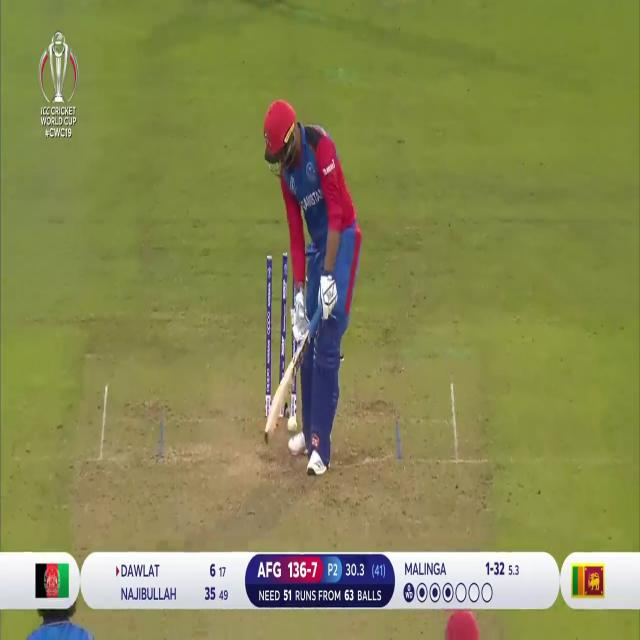ball: (287, 414, 297, 433)
